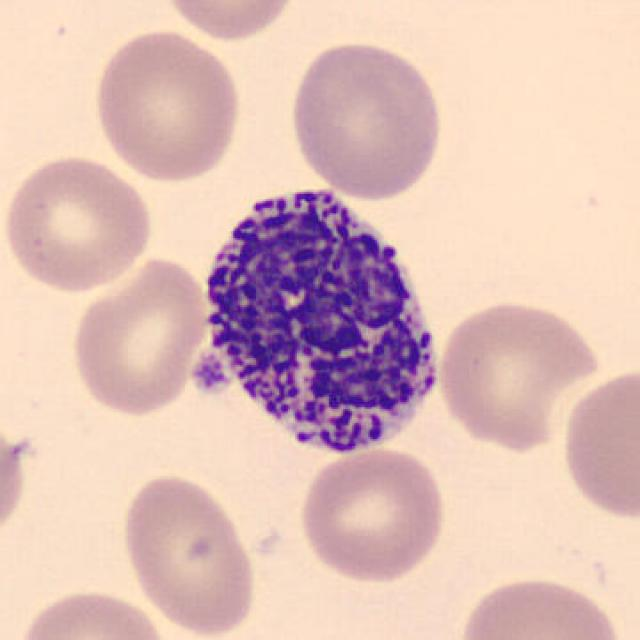Basophil: (176, 168, 455, 474)
RBC: (284, 37, 448, 205), (432, 295, 603, 453), (89, 25, 245, 185), (116, 469, 262, 638), (67, 252, 212, 420), (0, 149, 156, 296), (295, 443, 452, 587), (556, 362, 638, 524), (452, 571, 628, 640), (12, 583, 174, 640), (156, 0, 302, 44), (0, 413, 32, 550)
